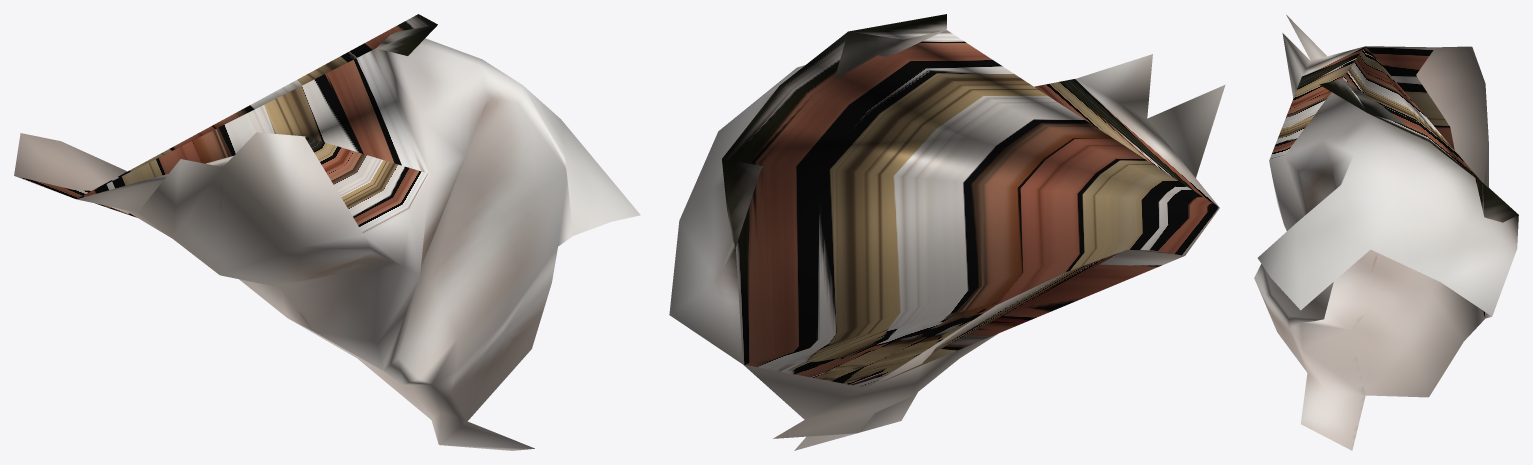
File: brazoIzq.obj
3 renders of one model, left to right at view 1: azimuth 30°, elevation 25°; view 2: azimuth 150°, elevation 25°; view 3: azimuth 270°, elevation 25°, orthographic. The views are drawn at different scales.
Parts seen in each view (by area): view 1: brazoIzq; view 2: brazoIzq; view 3: brazoIzq.
Boxes of the visible parts, <box> form: brazoIzq: <box>14,14,640,450</box>; brazoIzq: <box>669,14,1225,450</box>; brazoIzq: <box>1254,14,1518,450</box>.
Bounding box in the file's own units: 0.1313 × 0.104 × 0.0776.
1 material, 1 textured.
